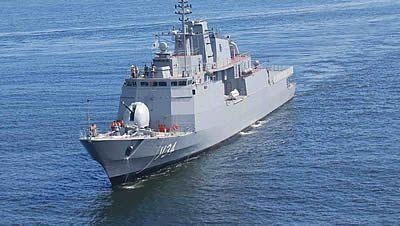warship: (80, 1, 290, 187)
